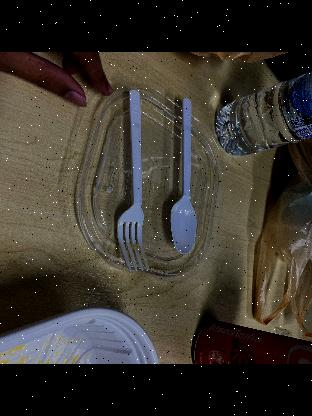Others: (112, 84, 150, 286), (164, 94, 198, 258)
